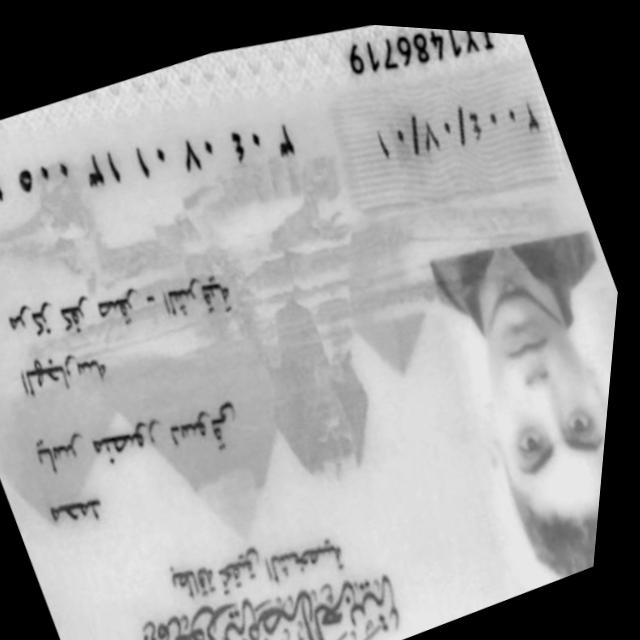id_card: (0, 25, 617, 640)
